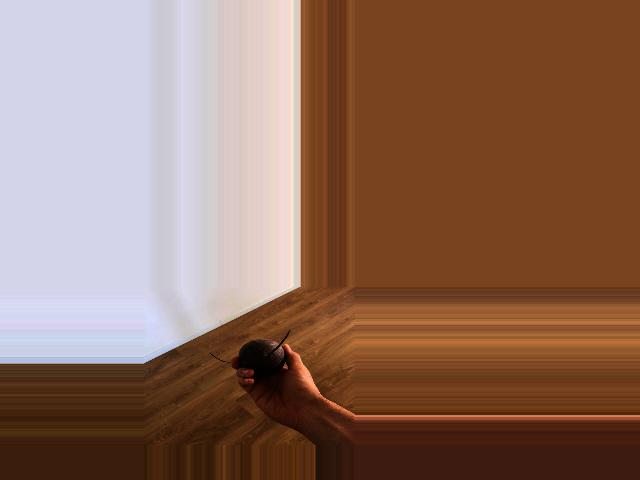beet: (209, 330, 289, 376)
